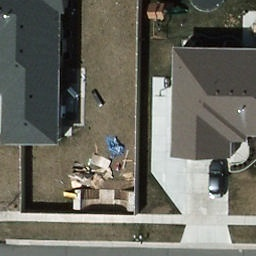car: (208, 161, 228, 201)
